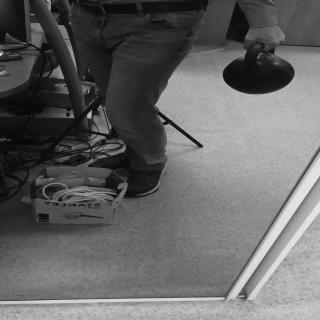girya: (223, 41, 295, 95)
